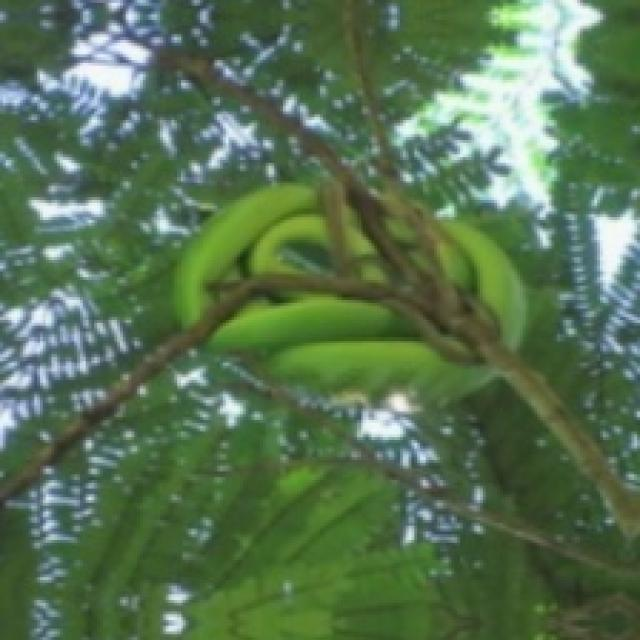red-tailed green ratsnake: (209, 291, 491, 397), (174, 183, 386, 323), (437, 220, 523, 346)
